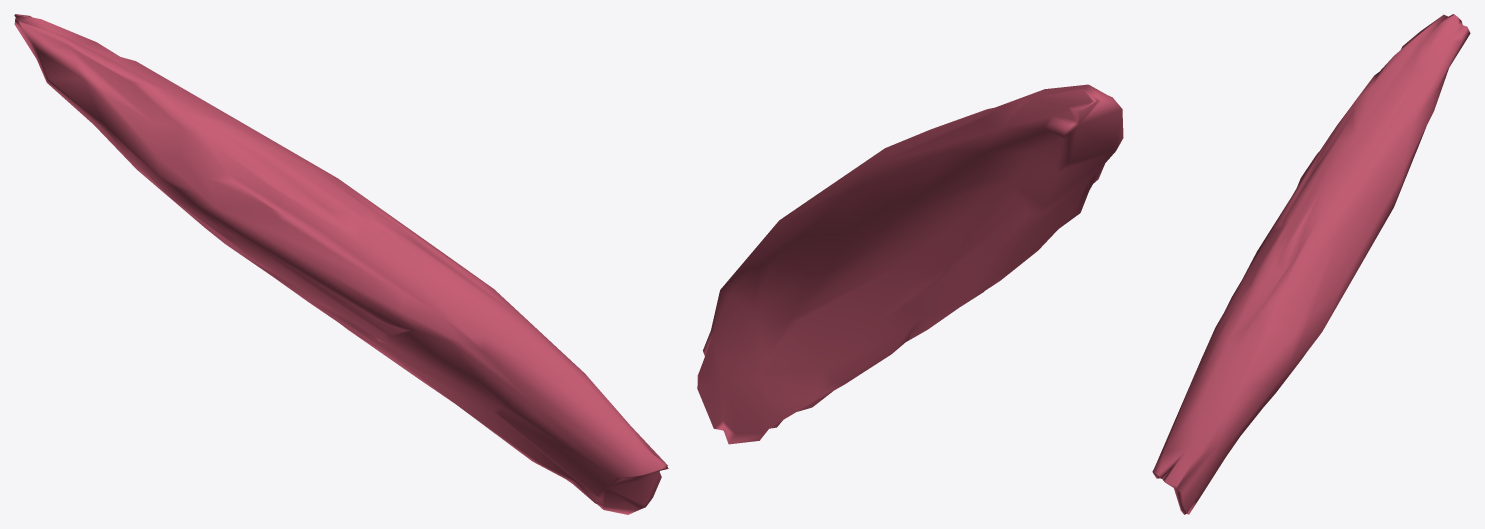
3 renders of one model, left to right at view 1: azimuth 30°, elevation 25°; view 2: azimuth 150°, elevation 25°; view 3: azimuth 270°, elevation 25°, orthographic. The views are drawn at different scales.
Parts seen in each view (by area): view 1: 左侧头下斜肌; view 2: 左侧头下斜肌; view 3: 左侧头下斜肌.
Part boxes in pixels (x1,y1,x2,y2): 左侧头下斜肌: (14, 14, 668, 514); 左侧头下斜肌: (697, 84, 1123, 444); 左侧头下斜肌: (1152, 14, 1470, 514).
Bounding box in the file's own units: 0.057 × 0.0557 × 0.0464.
